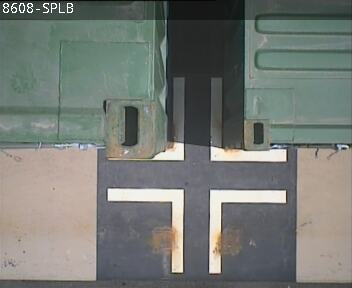groundmarker_1: (107, 187, 286, 272), (146, 75, 287, 160)
